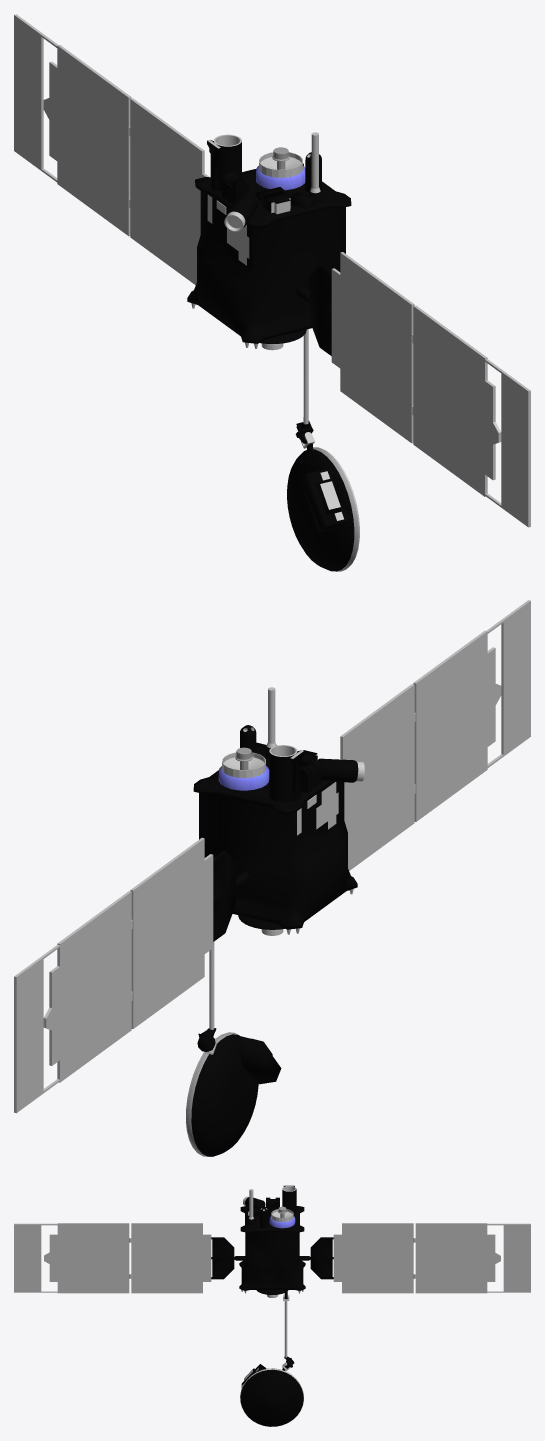
The model's file is marsGlobalSurveyor.fbx.
3 views of the same model, one above another, from view 1: azimuth 30°, elevation 25°; view 2: azimuth 150°, elevation 25°; view 3: azimuth 270°, elevation 25° (orthographic). The views are drawn at different scales.
Visible parts, largest first — view 1: tex, foil_gold, dark_grey; view 2: tex, foil_gold, dark_grey; view 3: tex, foil_gold, foil_silver.
Part boxes in pixels (left/top/right/bottom): tex: left=14, top=14, right=530, bottom=527; foil_gold: left=187, top=140, right=359, bottom=571; dark_grey: left=215, top=135, right=289, bottom=350; tex: left=14, top=600, right=530, bottom=1113; foil_gold: left=186, top=725, right=358, bottom=1156; dark_grey: left=235, top=745, right=295, bottom=935; tex: left=14, top=1185, right=530, bottom=1386; foil_gold: left=211, top=1186, right=333, bottom=1426; foil_silver: left=240, top=1369, right=303, bottom=1426.
Size of the model in its own units: 0.689 by 2.03 by 4.14.
